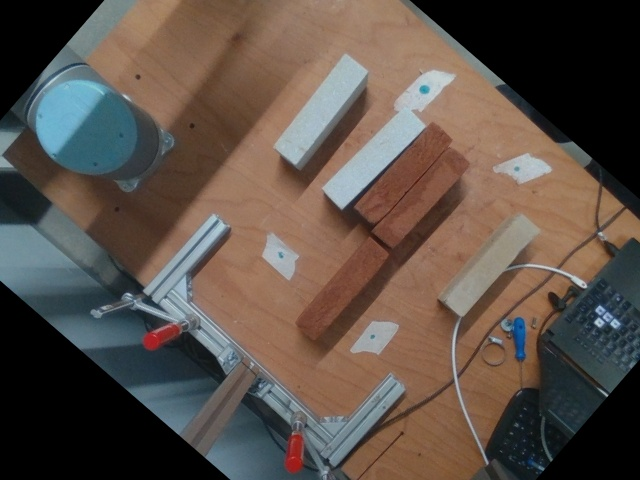brick-side: (372, 143, 470, 250), (293, 234, 391, 341), (442, 210, 540, 317), (323, 106, 426, 207), (274, 55, 369, 164), (356, 120, 452, 225)
